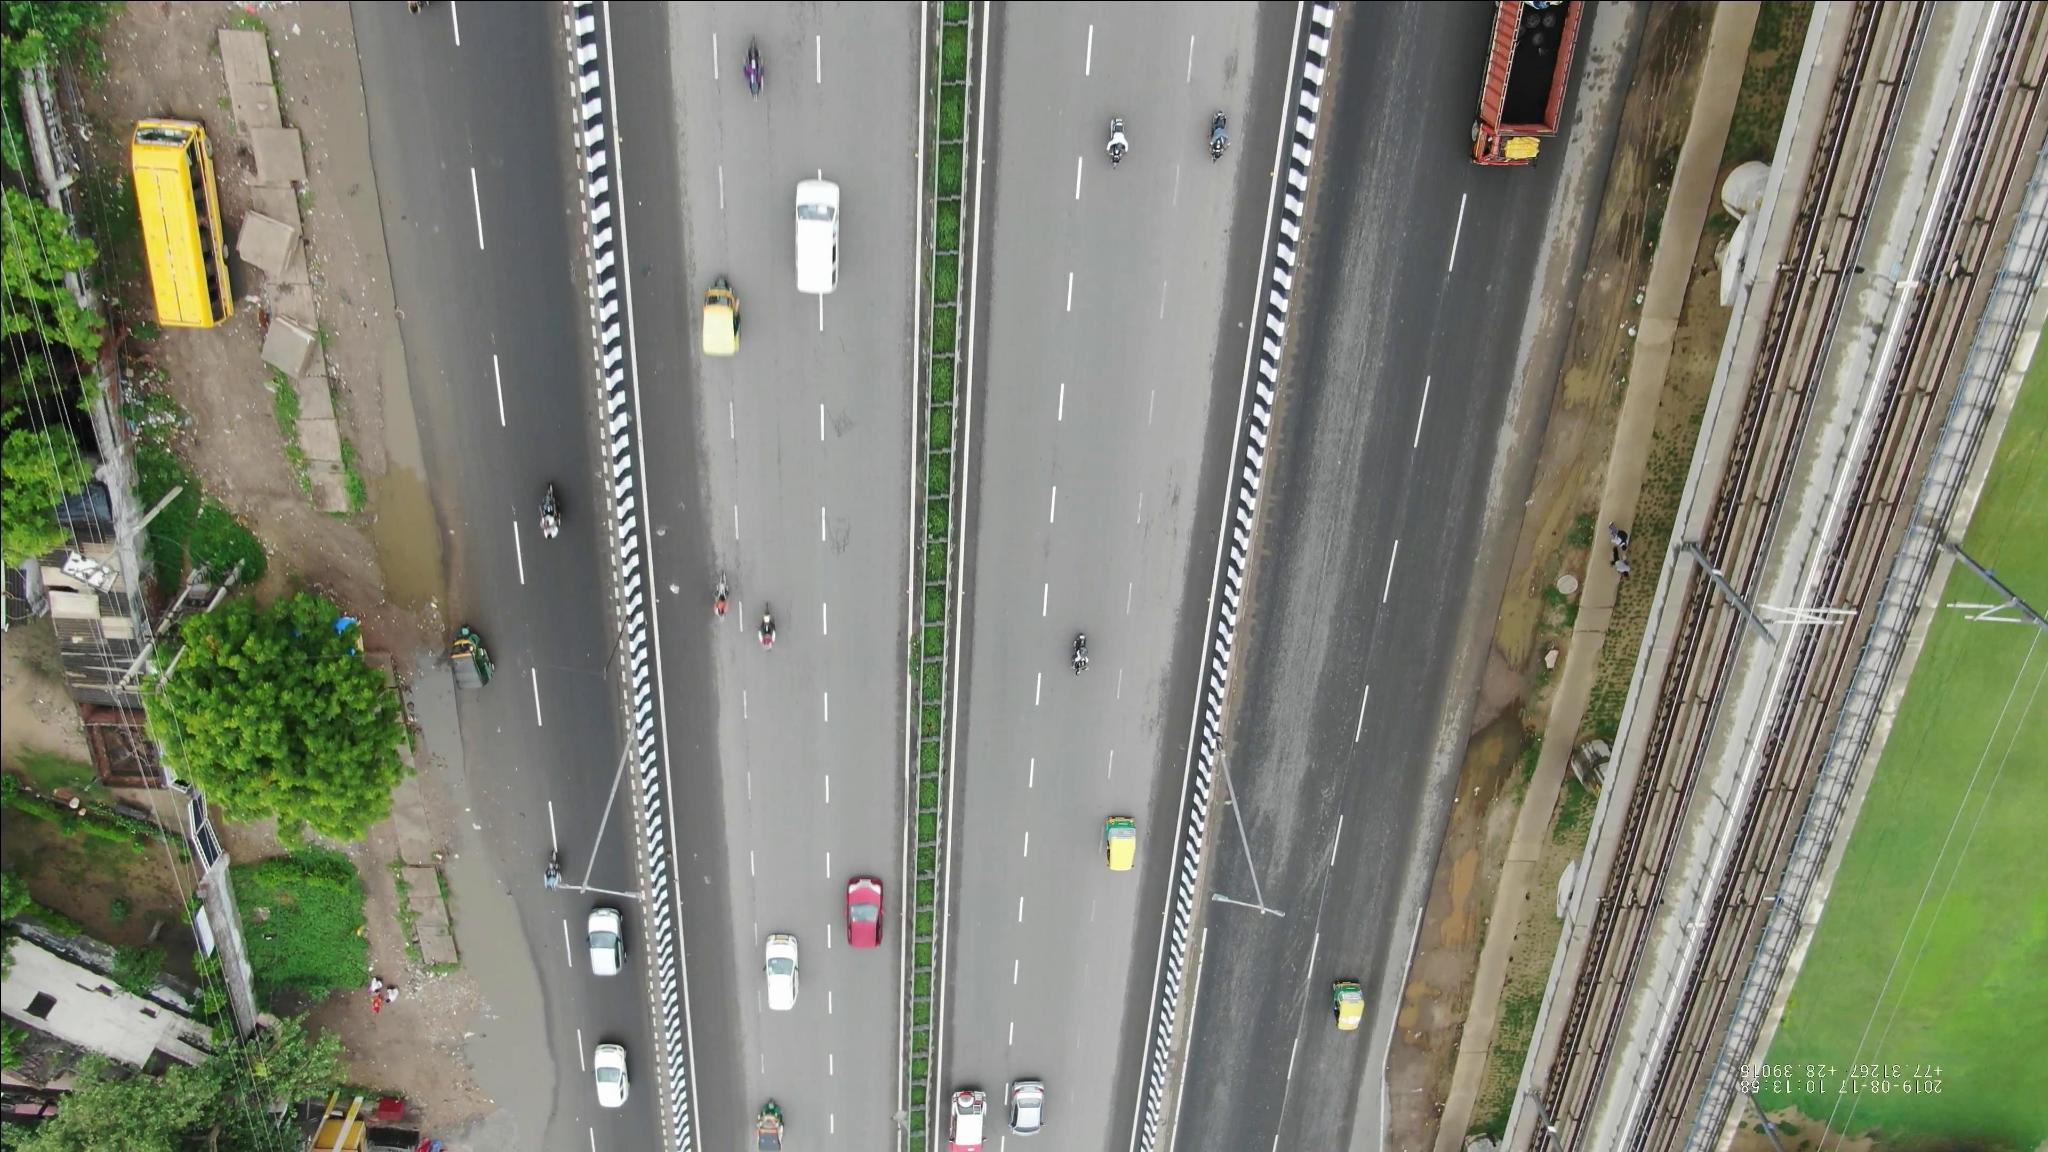Waterlogging: (459, 875, 560, 1132), (359, 354, 459, 613)
